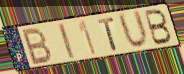1: (78, 19, 98, 57)
B: (21, 26, 54, 66), (143, 8, 173, 47)
I: (56, 21, 77, 60)
T: (97, 16, 119, 51)
U: (116, 9, 150, 50)
